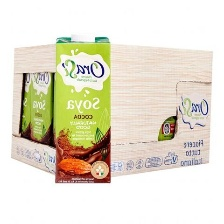carton: (36, 25, 116, 191)
